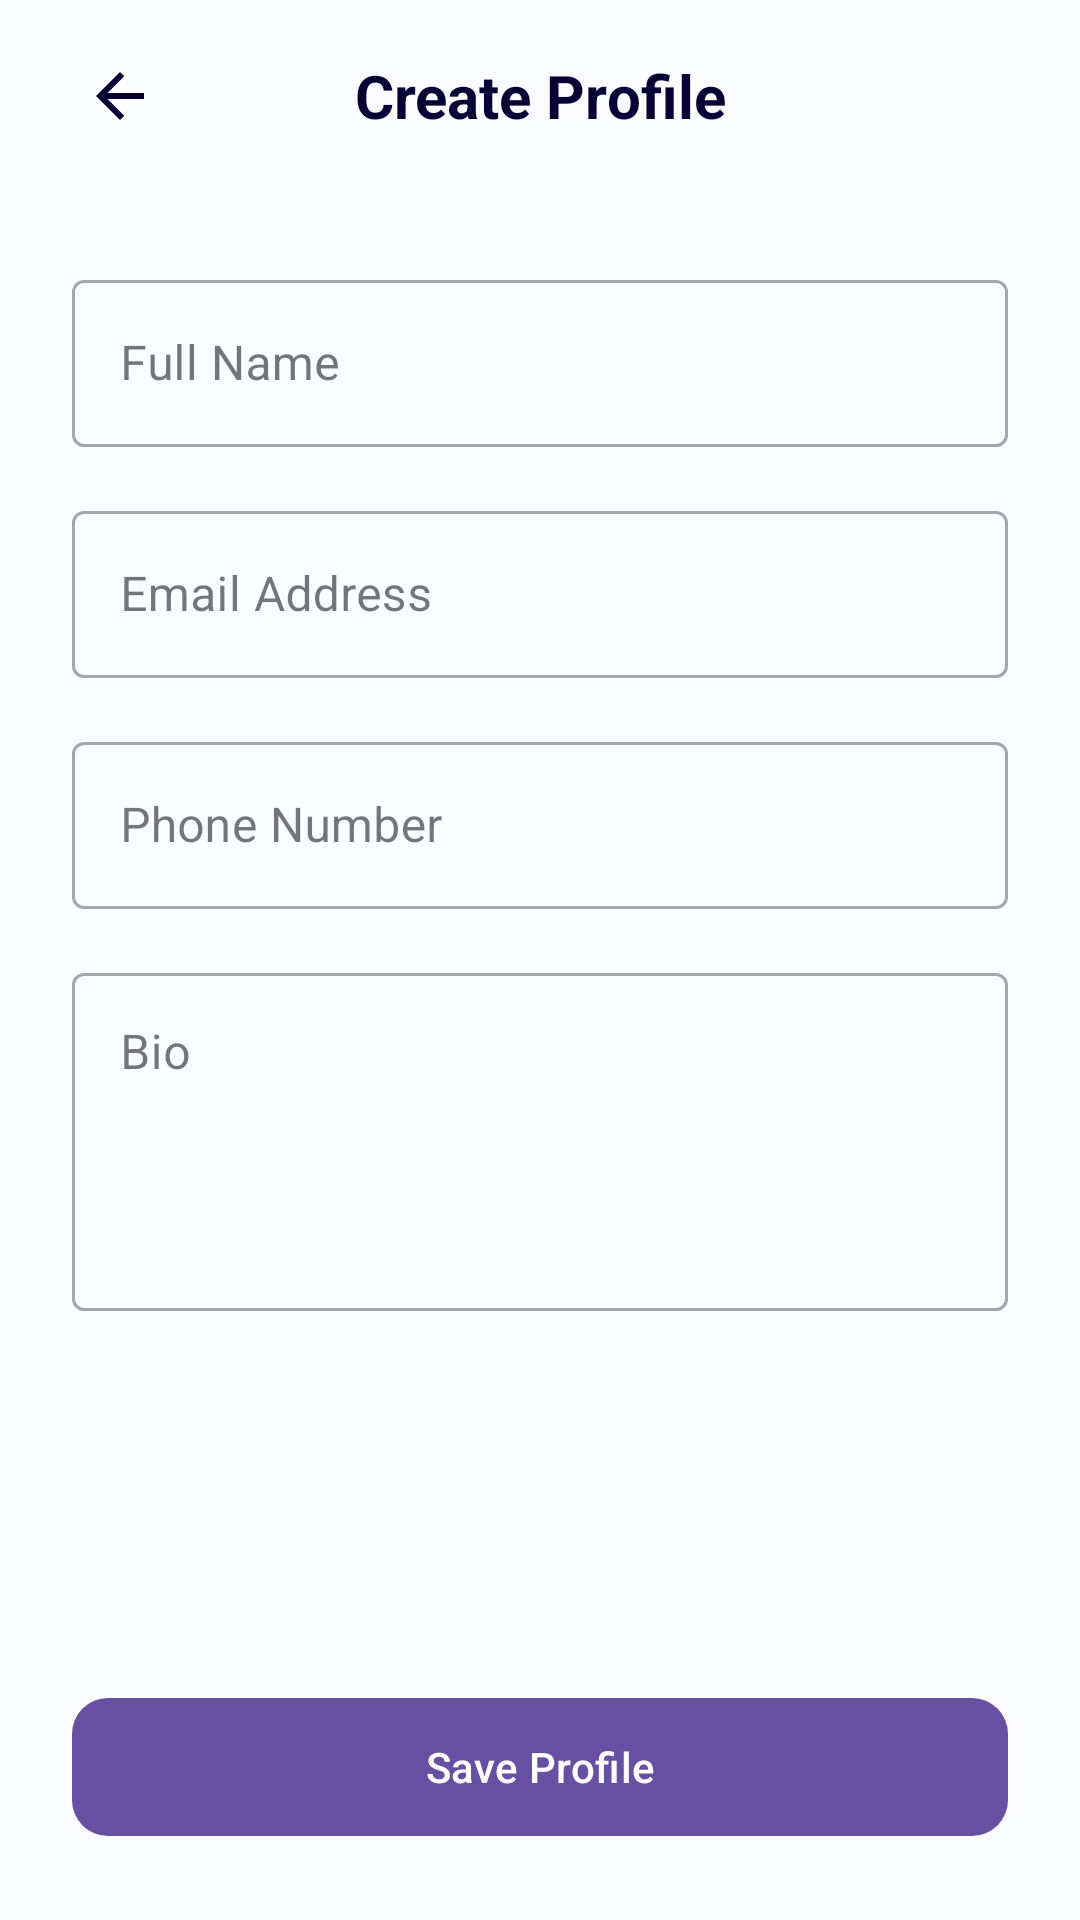

Locate icon controls on the screen. Image size 1080 × 1920, boxes as (x1,y1,x2,y2).
arrow back: (96,72,144,120)
